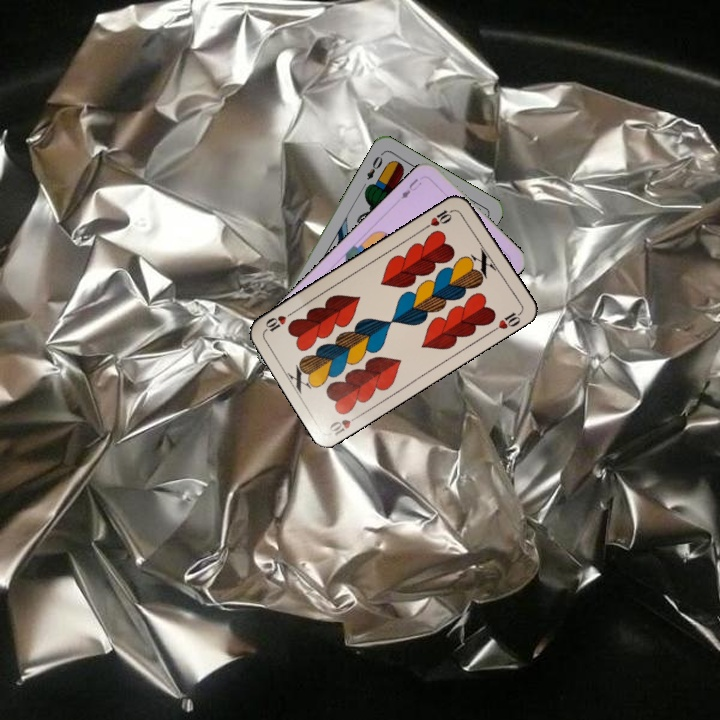EO: (363, 149, 385, 183)
EU: (397, 174, 424, 202)
H10: (325, 410, 364, 438), (420, 205, 458, 231)
